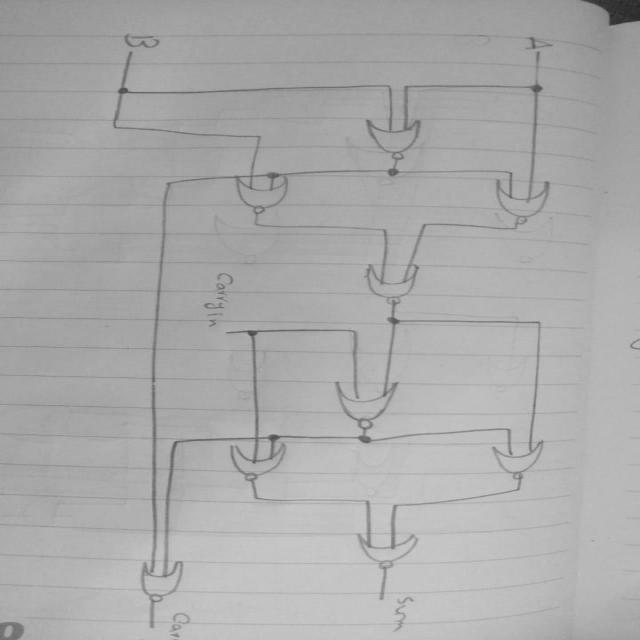NOR: (120, 545, 208, 610), (316, 375, 416, 430), (356, 106, 445, 164), (358, 251, 443, 310), (340, 528, 442, 574), (482, 179, 573, 227), (216, 442, 307, 488), (484, 442, 572, 488), (229, 175, 311, 221)
